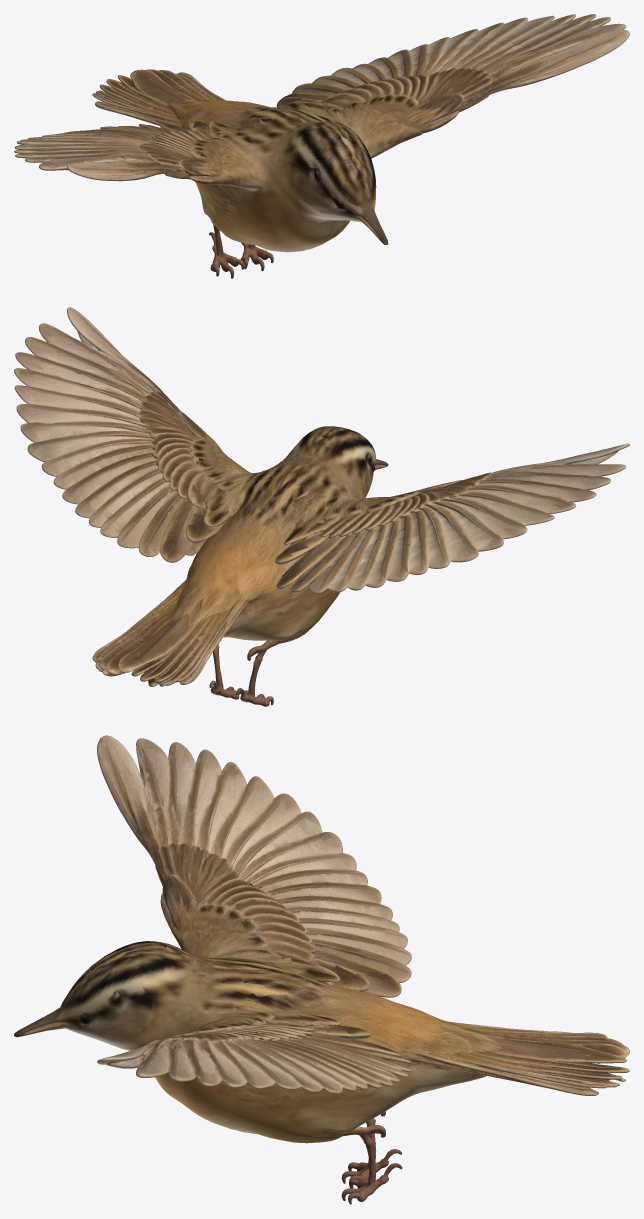
The model's file is Acrocephalus_schoenobaenus.glb.
3 renders of one model, top to bottom at view 1: azimuth 30°, elevation 25°; view 2: azimuth 150°, elevation 25°; view 3: azimuth 270°, elevation 25°, orthographic. The views are drawn at different scales.
Visible parts, largest first — view 1: orient; view 2: orient; view 3: orient.
Part boxes in pixels (x1,y1,x2,y2): orient: (14,14,629,278); orient: (14,307,629,706); orient: (14,735,629,1204).
Size of the model in its own units: 0.5 by 0.2043 by 0.3854.
Materials: 1 (1 with a texture image).
